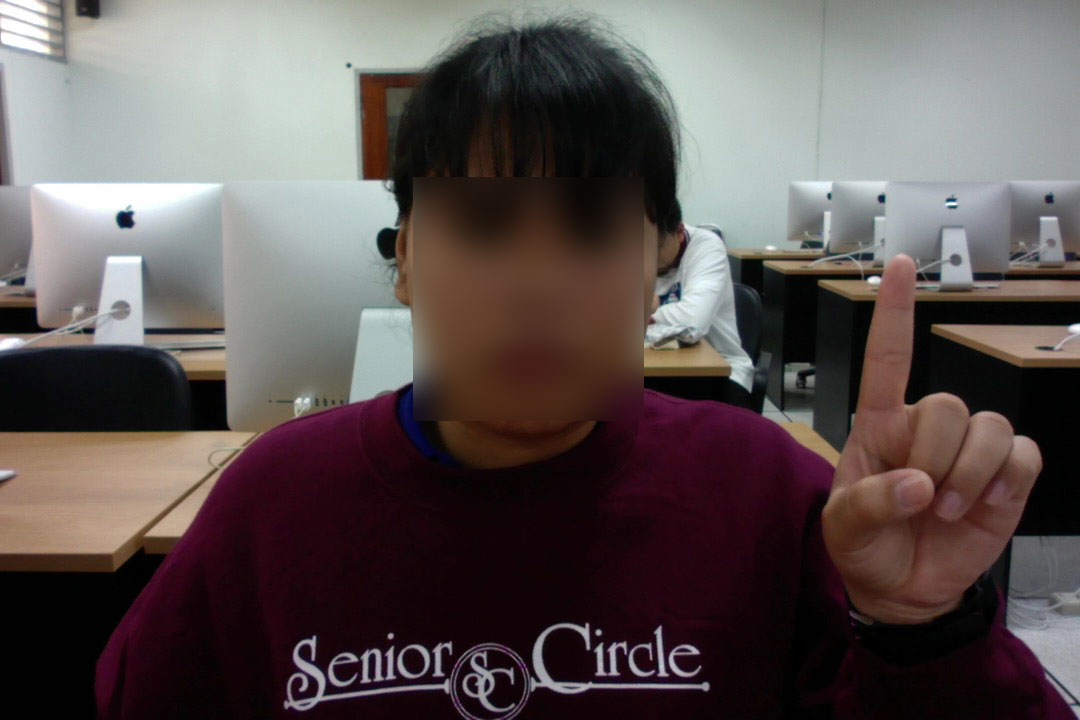dor: (810, 250, 1049, 648)
